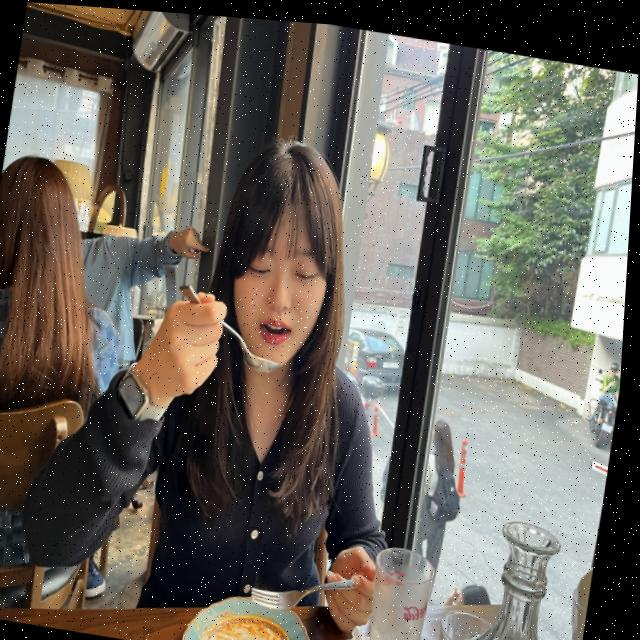eating-person: (0, 78, 503, 640)
